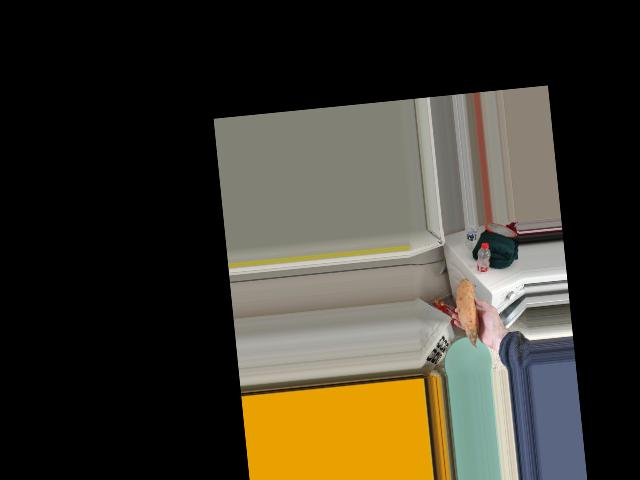sweet_potato: (454, 271, 483, 334)
